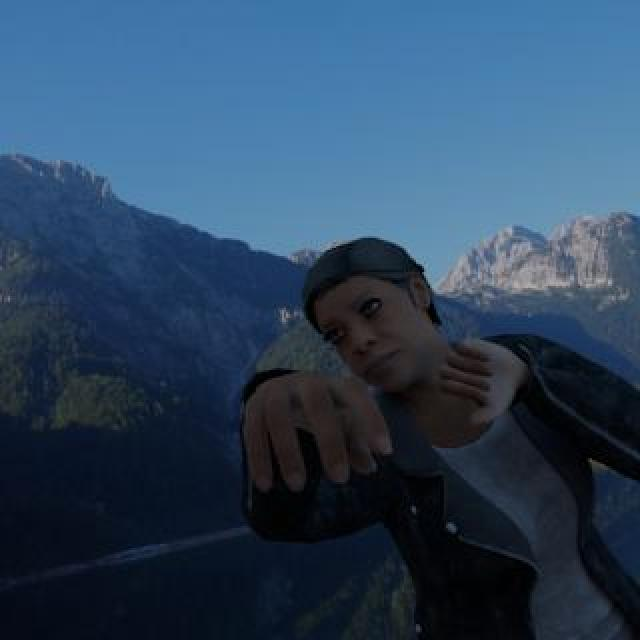not-gloved: (218, 346, 414, 508), (432, 306, 534, 453)
